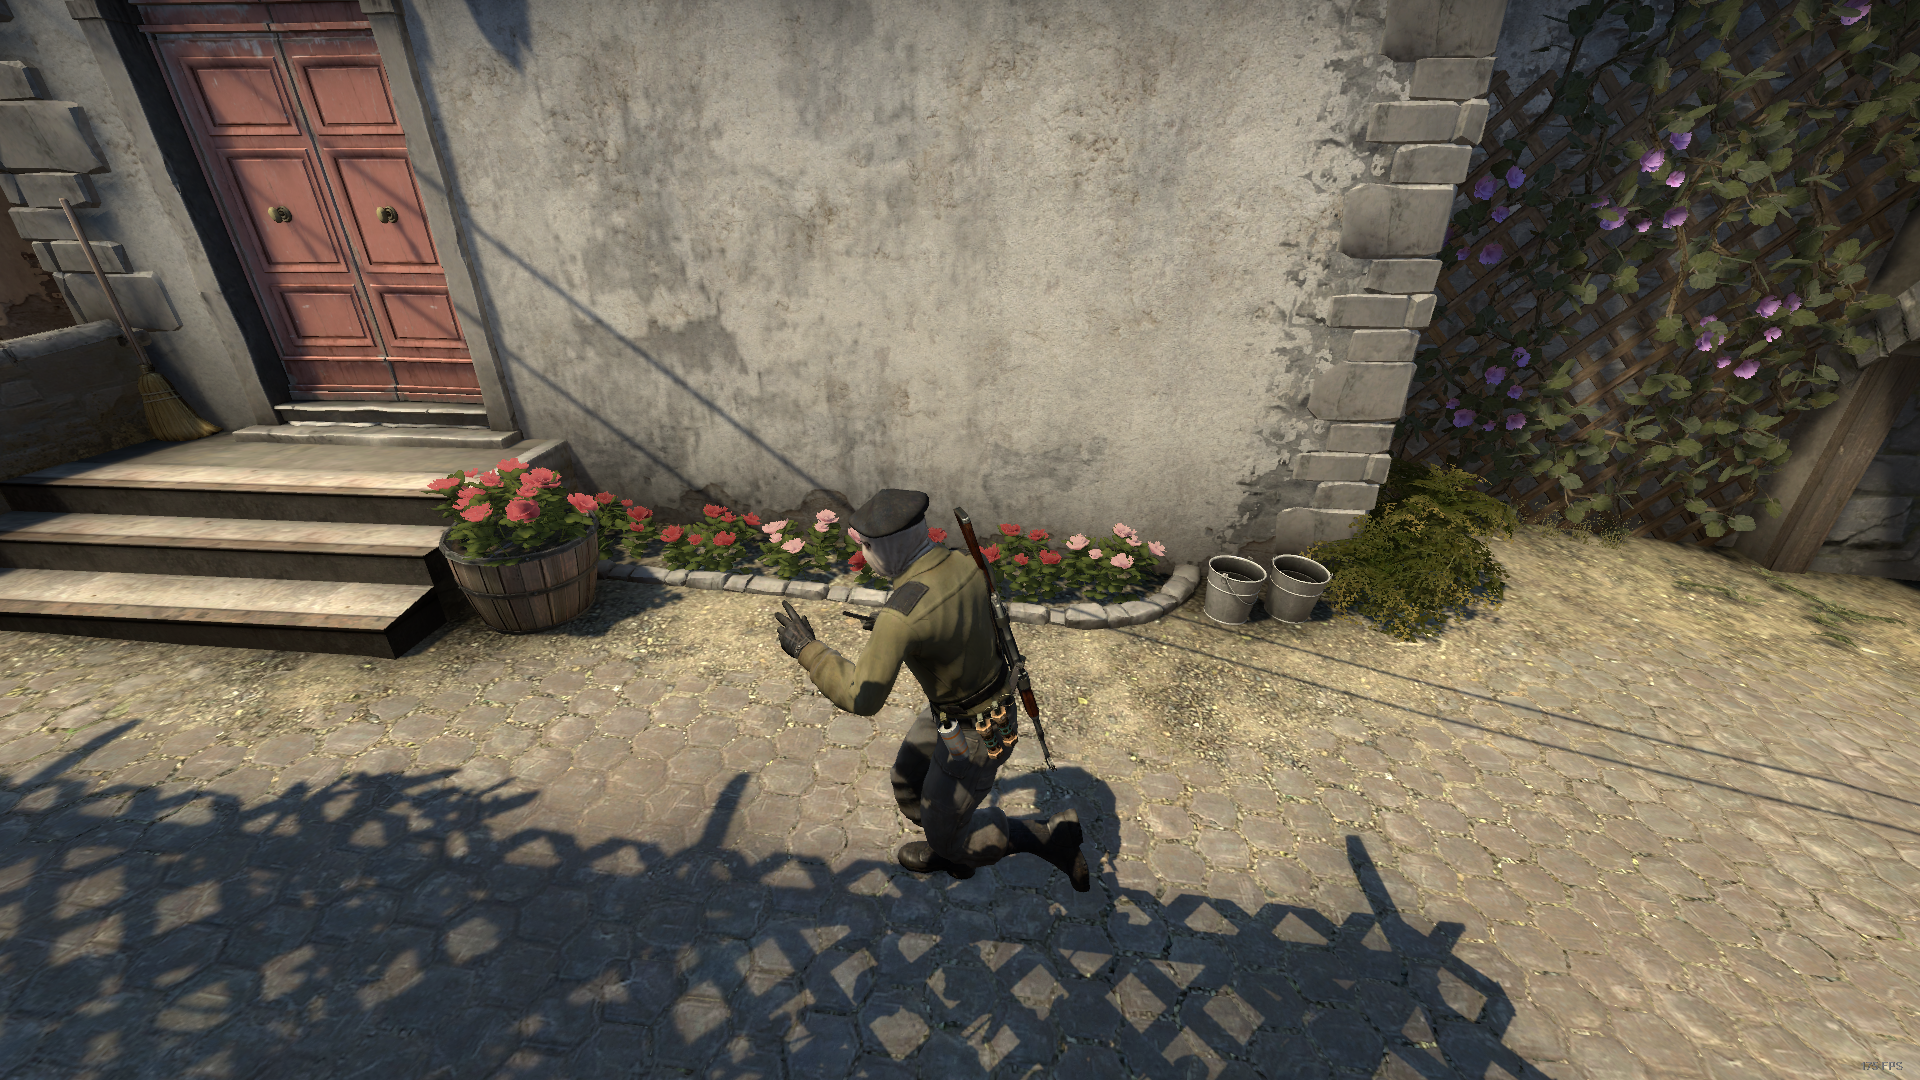t: (774, 487, 1091, 895)
